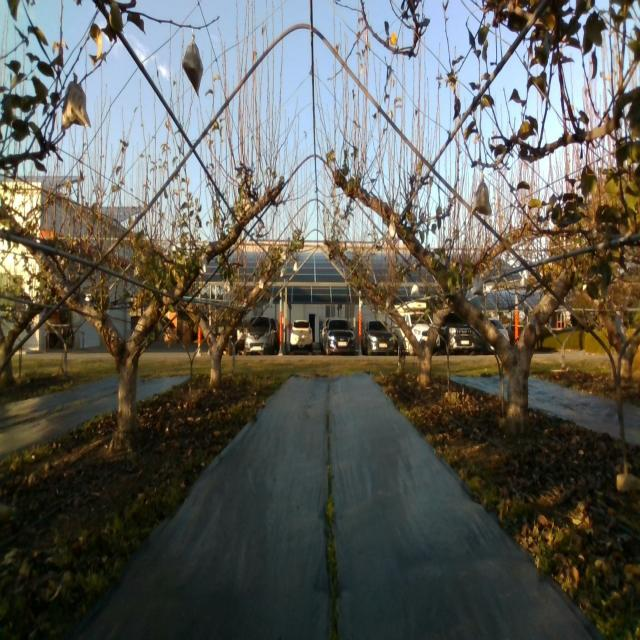pearbags: (62, 82, 92, 132), (182, 40, 204, 98), (472, 179, 492, 218), (472, 274, 485, 298)
